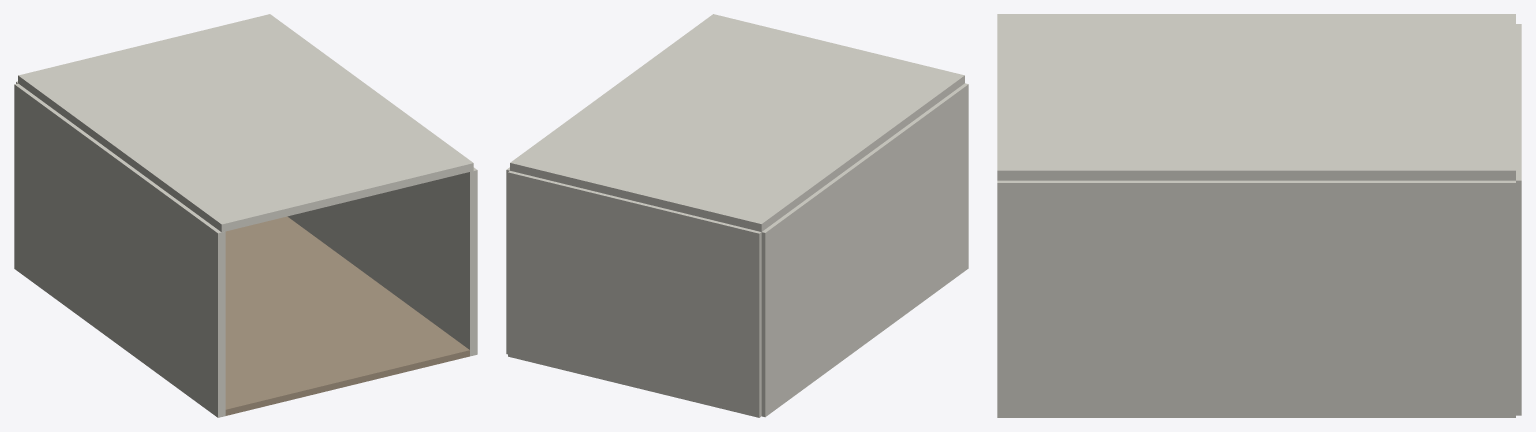
File: stock-car-oval-speedway-garage-stall-1a68ad6a__16951.glb
The picture shows the model from 3 angles, left to right: view 1: azimuth 30°, elevation 25°; view 2: azimuth 150°, elevation 25°; view 3: azimuth 270°, elevation 25°; orthographic projection. The views are drawn at different scales.
Visible parts, largest first — view 1: garage-stall; view 2: garage-stall; view 3: garage-stall.
Part boxes in pixels (box(x1,y1,x2,y2)): garage-stall: box(14, 14, 477, 417); garage-stall: box(506, 14, 968, 417); garage-stall: box(997, 14, 1521, 417).
Bounding box in the file's own units: 5.15 × 3.65 × 7.08.
